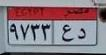3: (30, 22, 40, 42), (41, 23, 51, 42)
7: (19, 23, 29, 42)
9: (9, 22, 19, 41)
ain: (60, 23, 75, 44)
daal: (76, 26, 87, 41)
